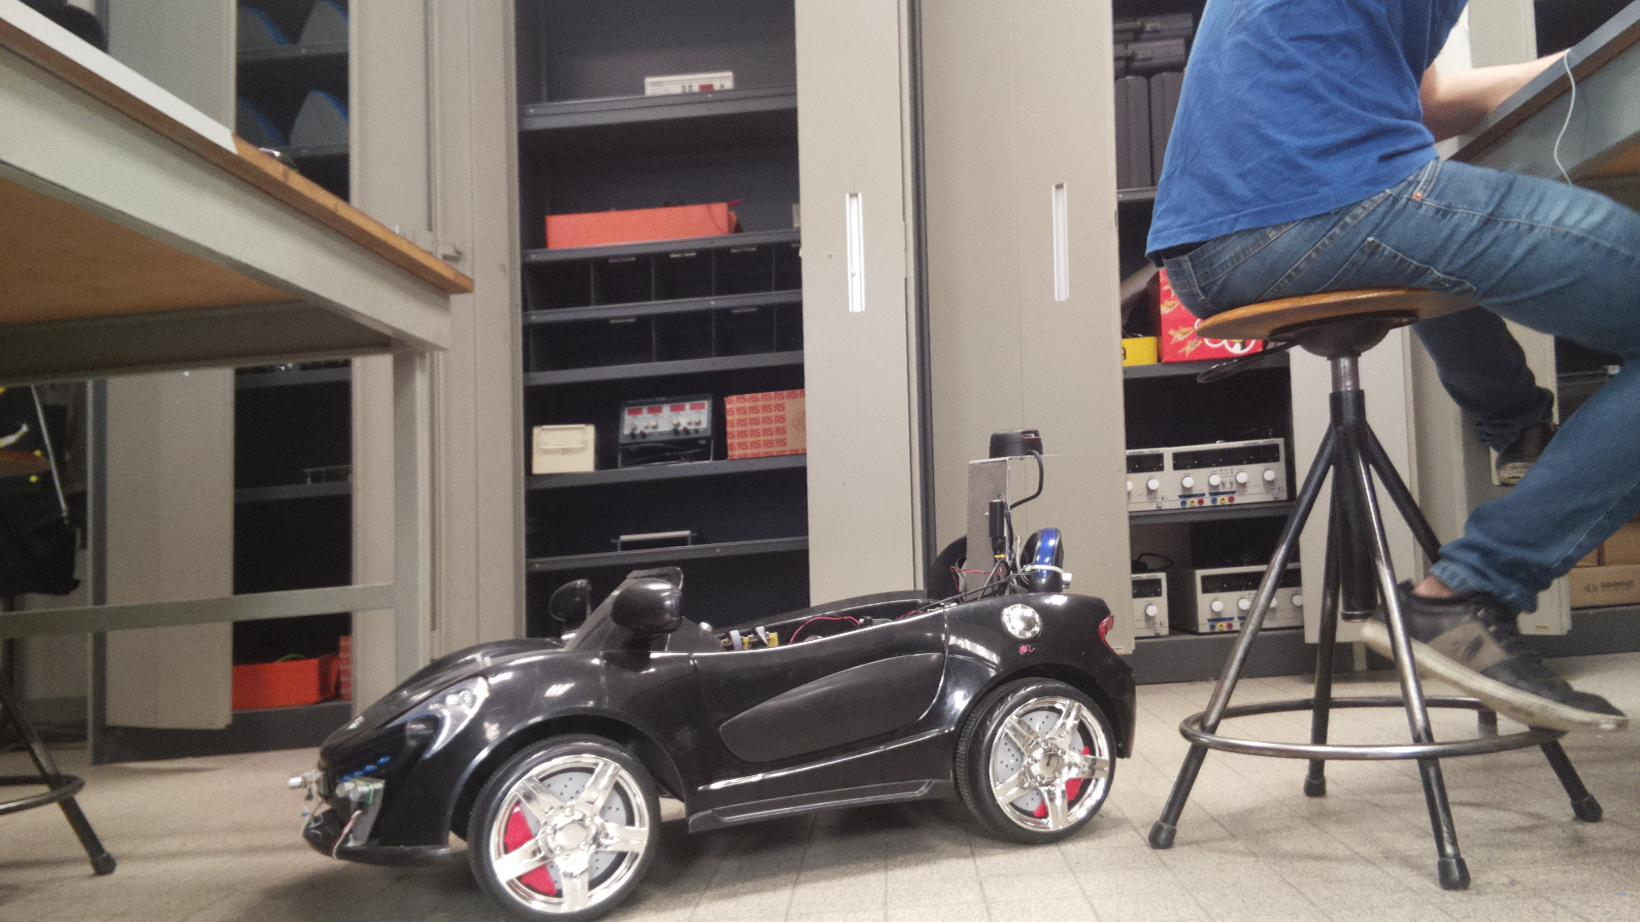big: (283, 423, 1139, 917)
